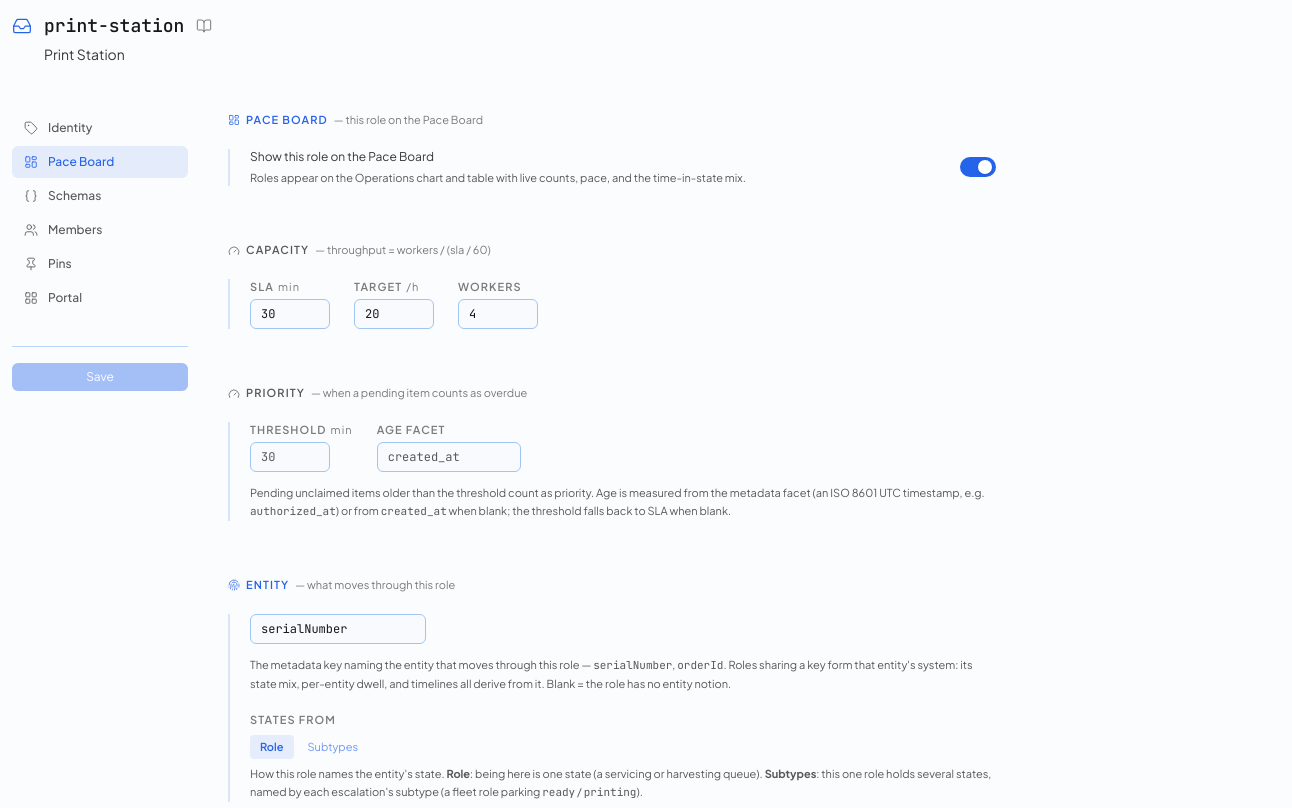
Test: RoleDetailPage — section sub-nav › hides the state-source choice while the entity facet is blank
Clear the field with placeholder "serialNumber" at (338, 629), box [250, 614, 426, 644]
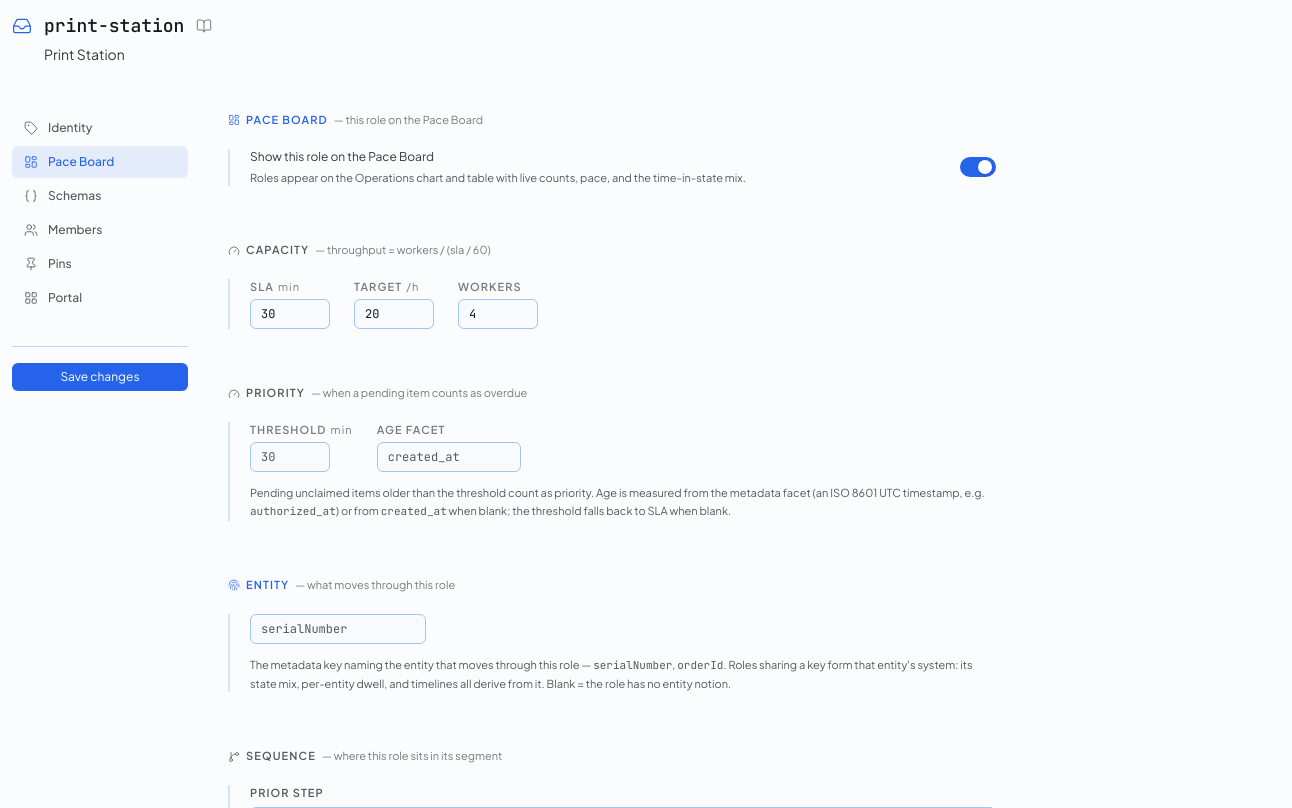
Expected: the text "States from" is gone
